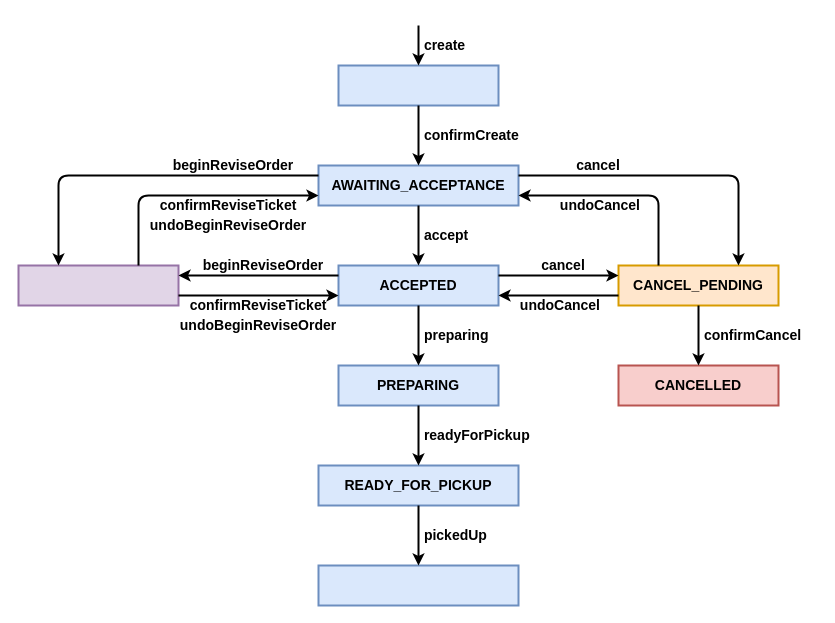
Some shapes in this 835 by 623 pixel diagram are drawn without their labels. Each missing label, with the centre of its shape:
"CREATE_PENDING" goes at (x=418, y=85).
"PICKED_UP" goes at (x=418, y=585).
"REVISION_PENDING" goes at (x=98, y=285).
